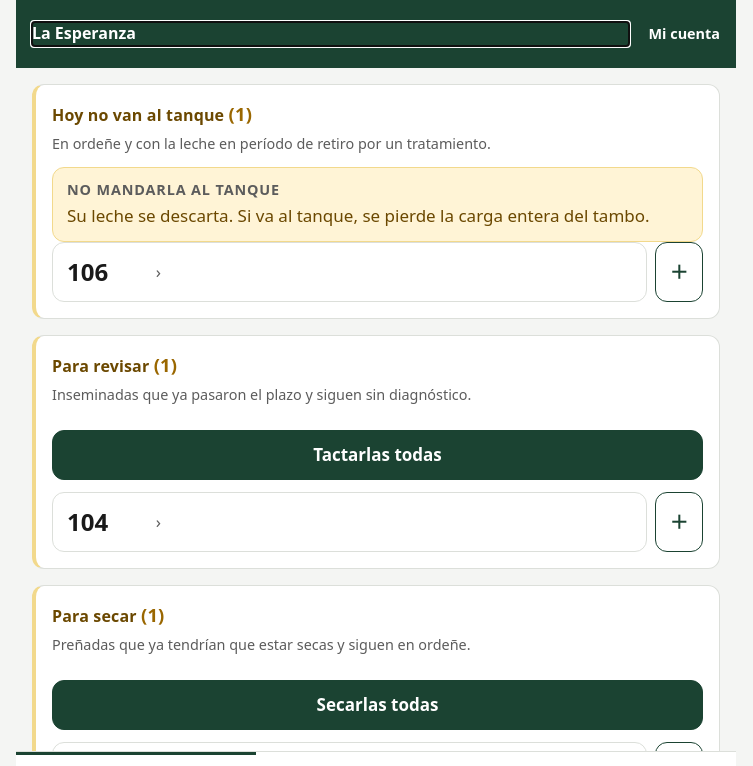
el menú de los doce tipos › el atajo ＋ de una fila del rodeo llega al menú
Click the link named "Cargar un evento a 104": (679, 522) [655,492,703,552]
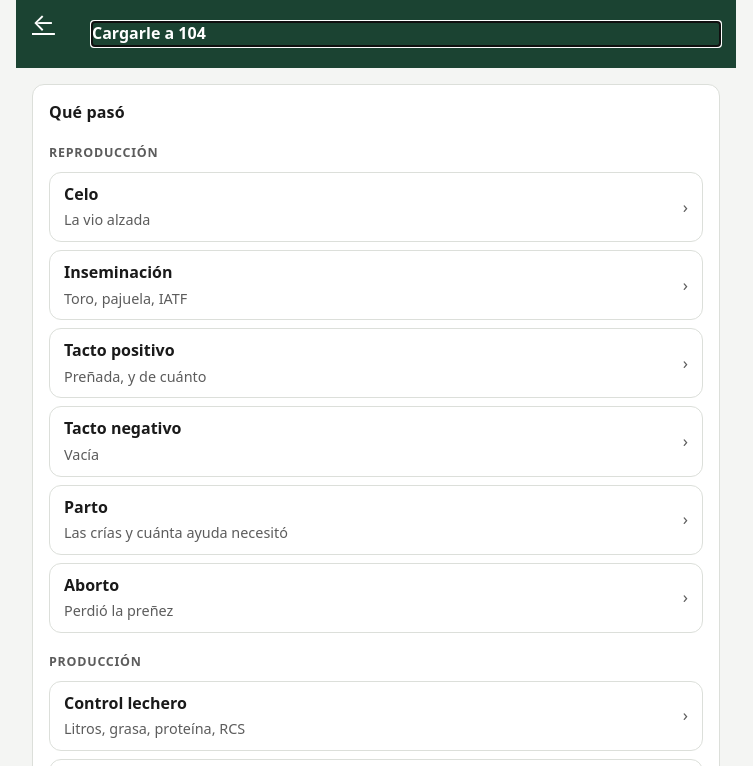
expect the heading "Cargarle a 104" is shown: met, box [92,22,206,44]
